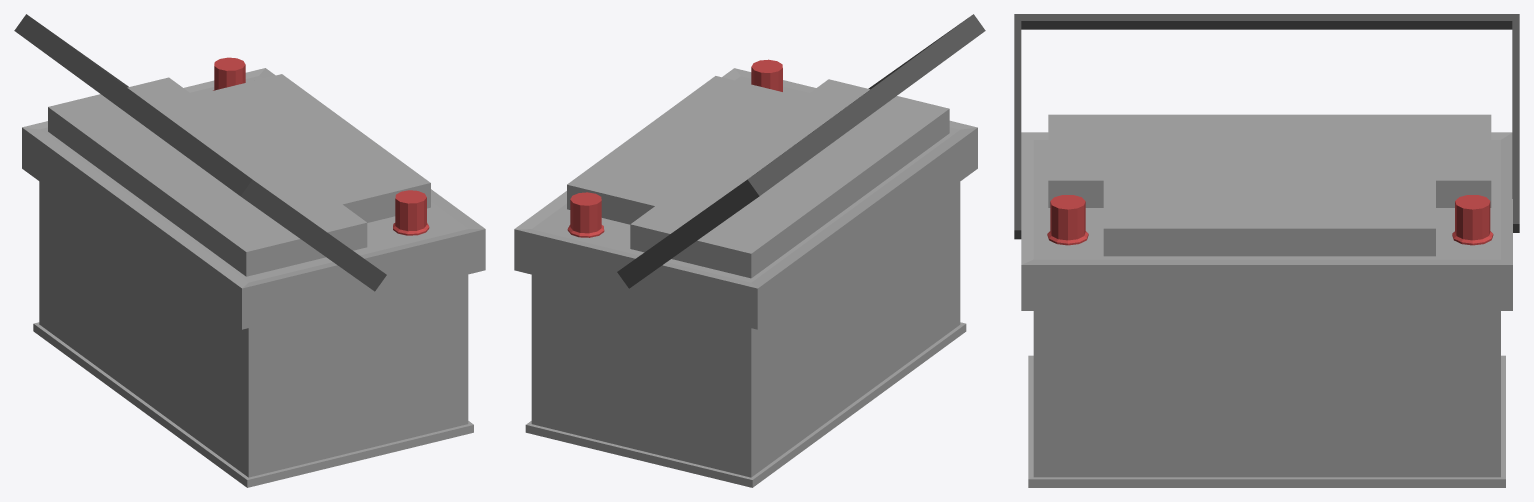
Rendered from BatteryModel.fbx.
3 views of the same model, side by side, from view 1: azimuth 30°, elevation 25°; view 2: azimuth 150°, elevation 25°; view 3: azimuth 270°, elevation 25° (orthographic). The views are drawn at different scales.
Visible parts, largest first — view 1: pCube5; view 2: pCube5; view 3: pCube5.
Boxes of the visible parts, left/top/right/bottom form: pCube5: left=14, top=14, right=485, bottom=487; pCube5: left=514, top=14, right=985, bottom=487; pCube5: left=1014, top=14, right=1519, bottom=487.
Bounding box in the file's own units: 13.87 × 16.72 × 21.88.
